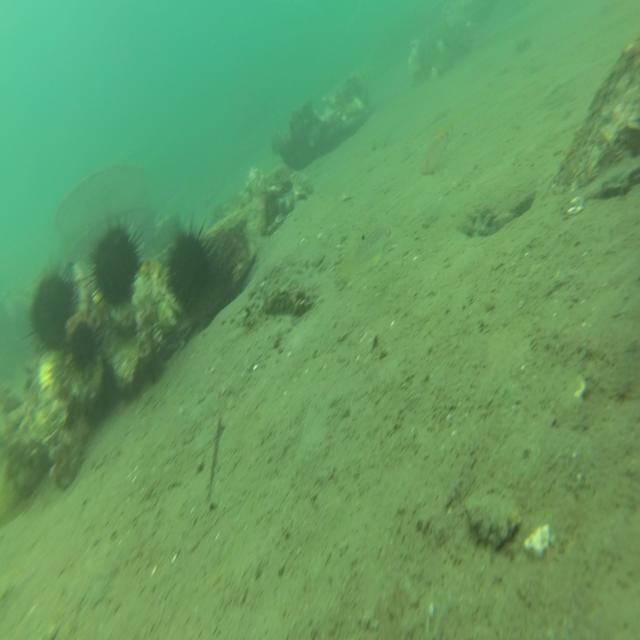echinus: (80, 213, 147, 314), (20, 264, 80, 355), (166, 211, 216, 313), (63, 317, 103, 373)
